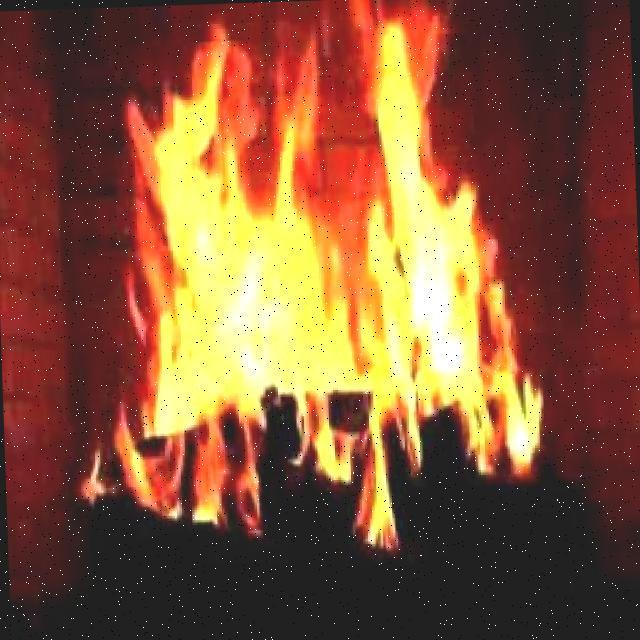Fire: (115, 54, 527, 470)
